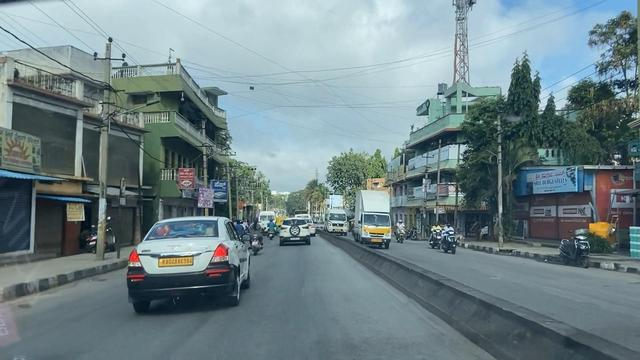LMV: (130, 218, 254, 311), (280, 219, 310, 247)
